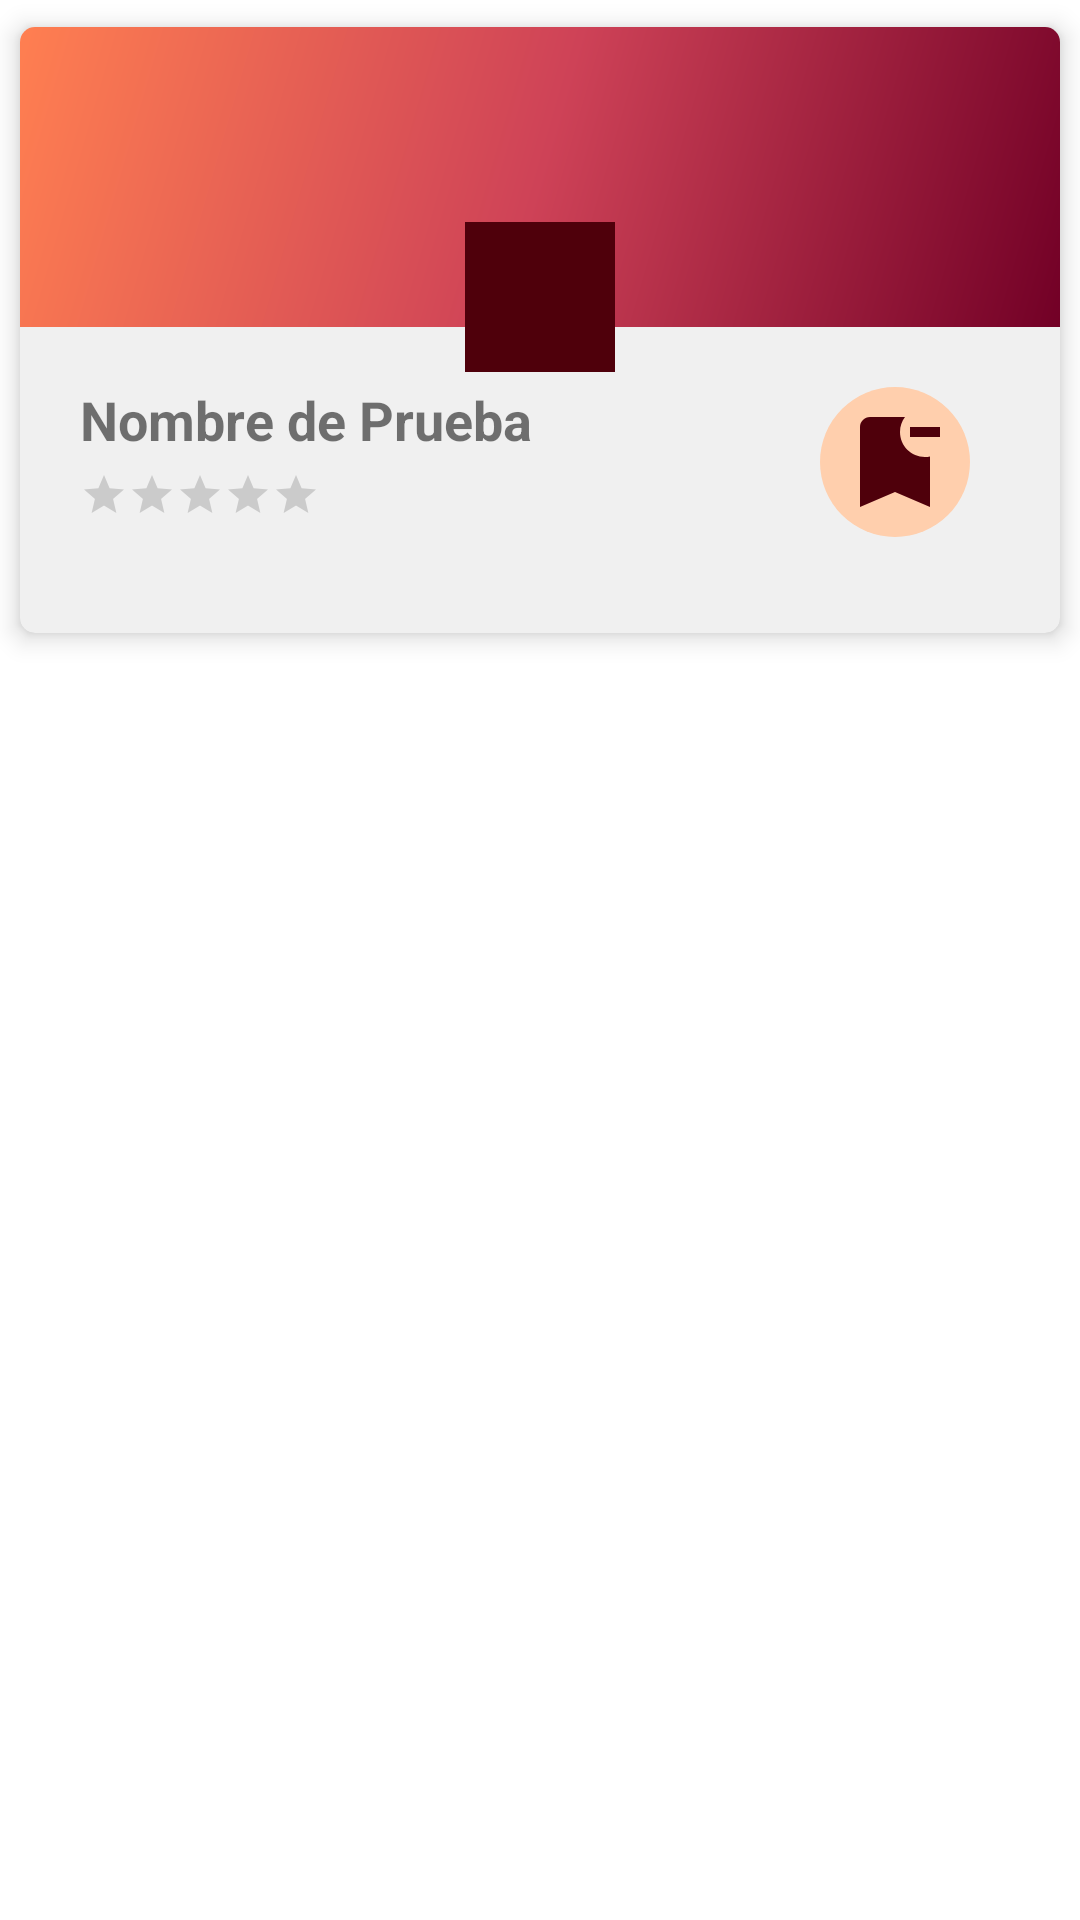

Where icons sit on this 1080x1920 app screen, as region(x1, y1, x2, y2):
Eliminar local de la categoría: region(820, 387, 970, 537)
